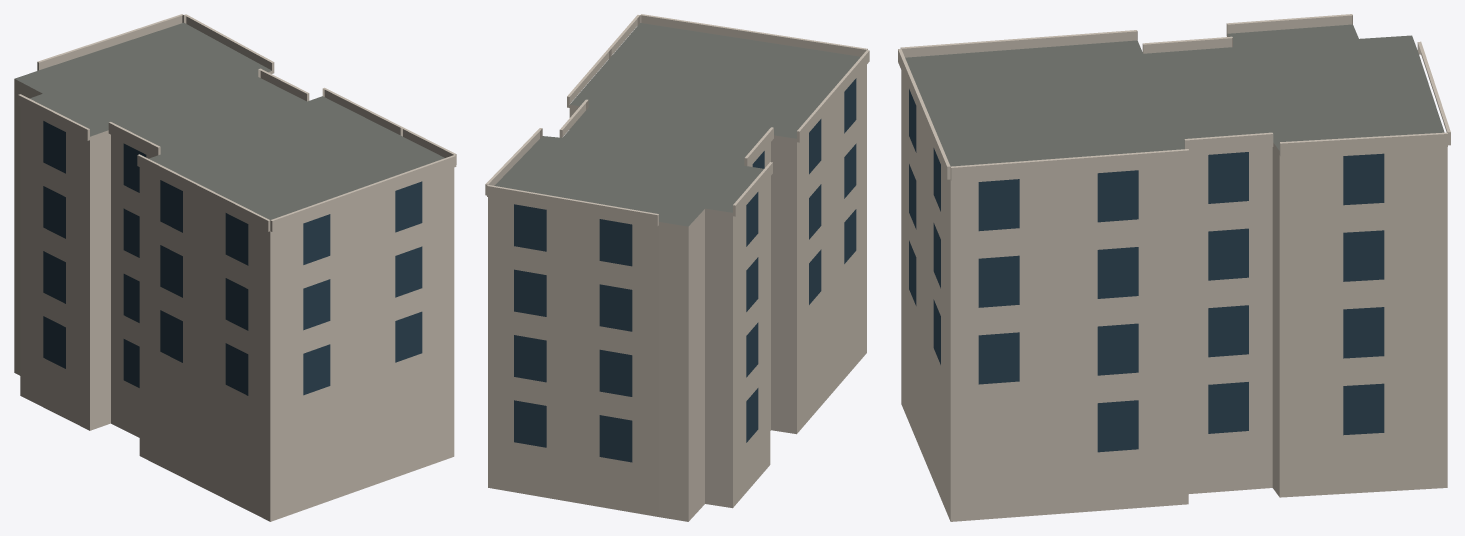
3 renders of one model, left to right at view 1: azimuth 30°, elevation 25°; view 2: azimuth 150°, elevation 25°; view 3: azimuth 270°, elevation 25°, orthographic. The views are drawn at different scales.
Parts seen in each view (by area): view 1: Footprint 0 / surface 2, Footprint 0 / surface 1, Inset glazing, Facade bay volumes; view 2: Footprint 0 / surface 2, Footprint 0 / surface 1, Inset glazing, Facade bay volumes; view 3: Footprint 0 / surface 2, Footprint 0 / surface 1, Inset glazing, Facade bay volumes.
Boxes of the visible parts, <box> form: Footprint 0 / surface 2: <box>14,71,454,521</box>; Footprint 0 / surface 1: <box>15,22,444,219</box>; Inset glazing: <box>43,121,422,395</box>; Facade bay volumes: <box>18,14,456,231</box>; Footprint 0 / surface 2: <box>488,65,866,521</box>; Footprint 0 / surface 1: <box>494,23,860,226</box>; Inset glazing: <box>514,78,856,462</box>; Facade bay volumes: <box>485,14,869,226</box>; Footprint 0 / surface 2: <box>901,34,1447,521</box>; Footprint 0 / surface 1: <box>905,24,1444,166</box>; Inset glazing: <box>909,89,1384,452</box>; Facade bay volumes: <box>898,14,1450,180</box>.
Bounding box in the file's own units: 12.77 × 13.74 × 19.37.
